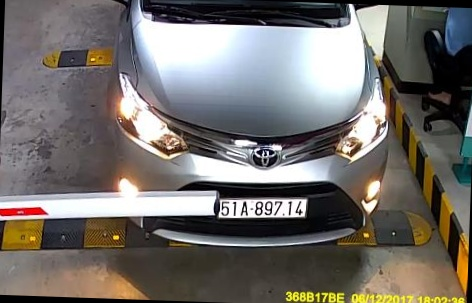plate: (214, 187, 319, 225)
